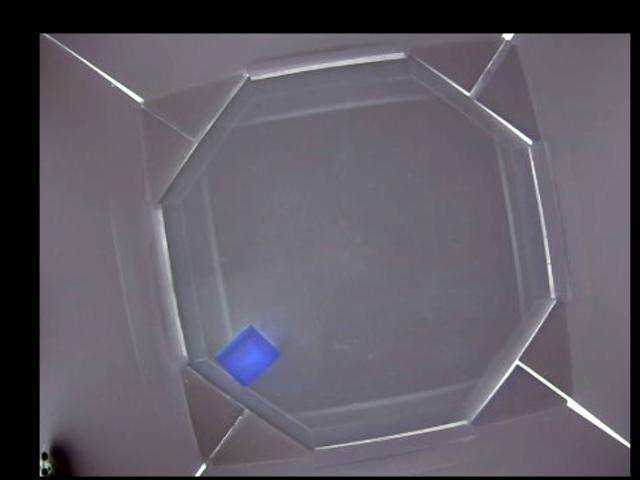Potato: (217, 326, 280, 386)
